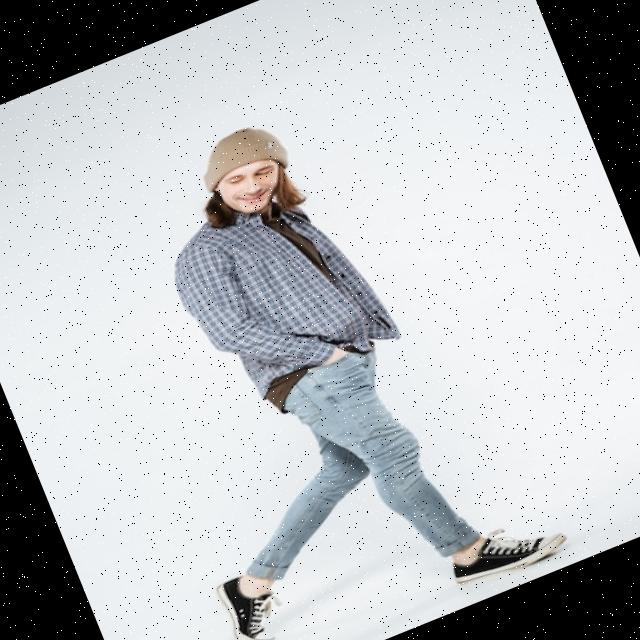Person: (55, 74, 569, 640)
